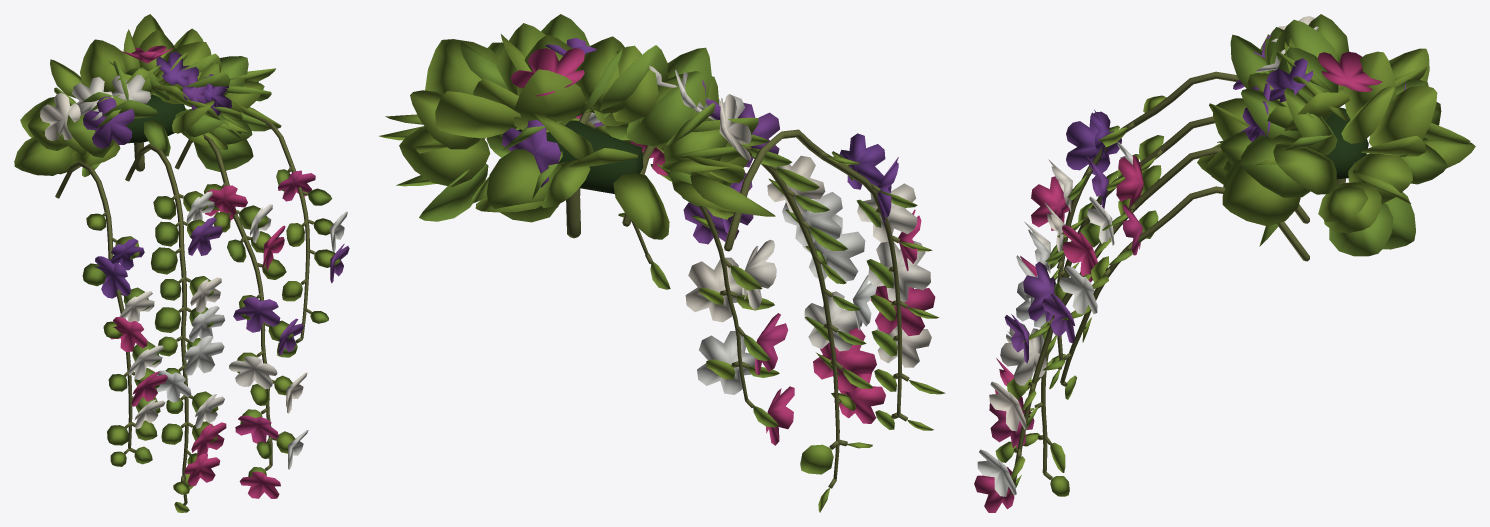
The model's file is box_petunia_purple.glb.
3 views of the same model, side by side, from view 1: azimuth 30°, elevation 25°; view 2: azimuth 150°, elevation 25°; view 3: azimuth 270°, elevation 25° (orthographic). The views are drawn at different scales.
Parts seen in each view (by area): view 1: Sammel Pflanze, Sammel Putz, Sammel Blatt; view 2: Sammel Pflanze, Sammel Putz, Sammel Blatt; view 3: Sammel Pflanze, Sammel Putz, Sammel Blatt.
Boxes of the visible parts, <box> form: Sammel Pflanze: <box>14,14,349,512</box>; Sammel Putz: <box>55,118,314,506</box>; Sammel Blatt: <box>126,94,185,143</box>; Sammel Pflanze: <box>379,14,945,512</box>; Sammel Putz: <box>483,112,909,488</box>; Sammel Blatt: <box>518,120,643,193</box>; Sammel Pflanze: <box>974,14,1475,512</box>; Sammel Putz: <box>1012,71,1345,485</box>; Sammel Blatt: <box>1324,107,1368,179</box>.
Bounding box in the file's own units: 0.3699 × 0.4957 × 0.4581.
